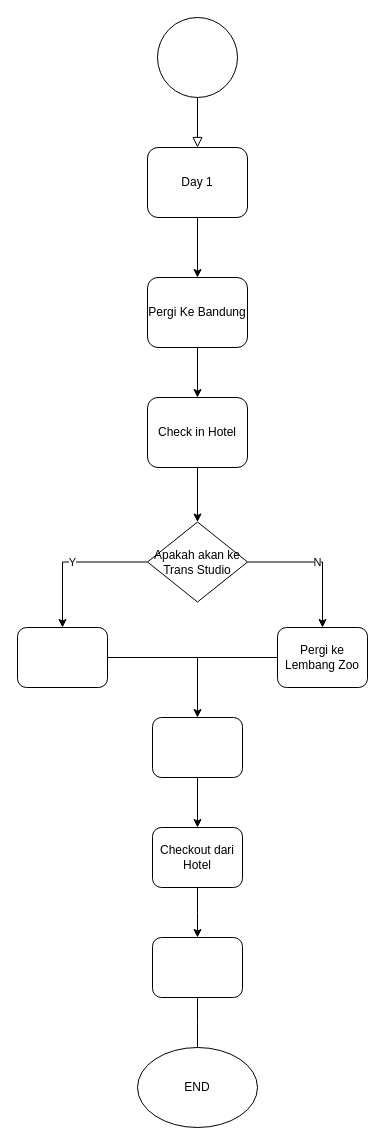
This 385x1145 diagram has some shape labels left out. Here are the shapes that lost their labels. From the top down, the centre of each, then its label:
[197,57]: Start
[62,657]: Pergi ke Trans Studio
[197,747]: Day 2
[197,967]: Pulang ke Jakarta
